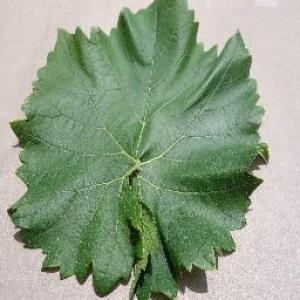Folha: (6, 0, 269, 299)
